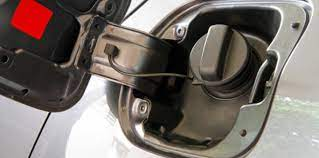open: (127, 0, 301, 151)
